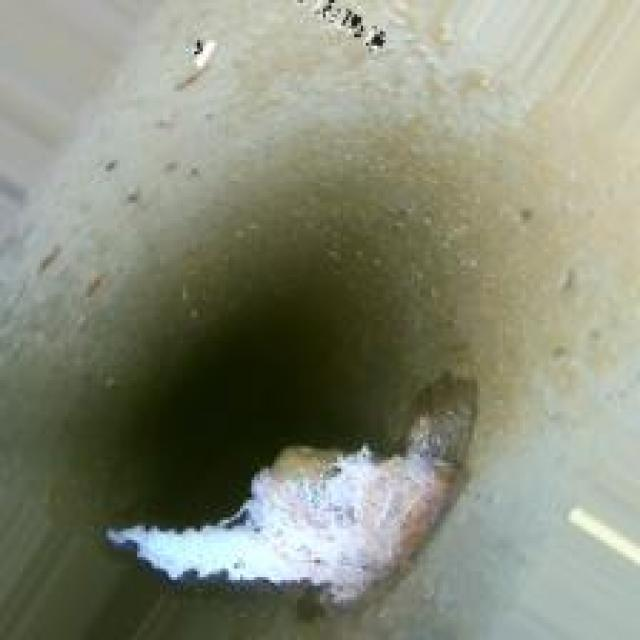ferrule: (183, 411, 546, 600)
